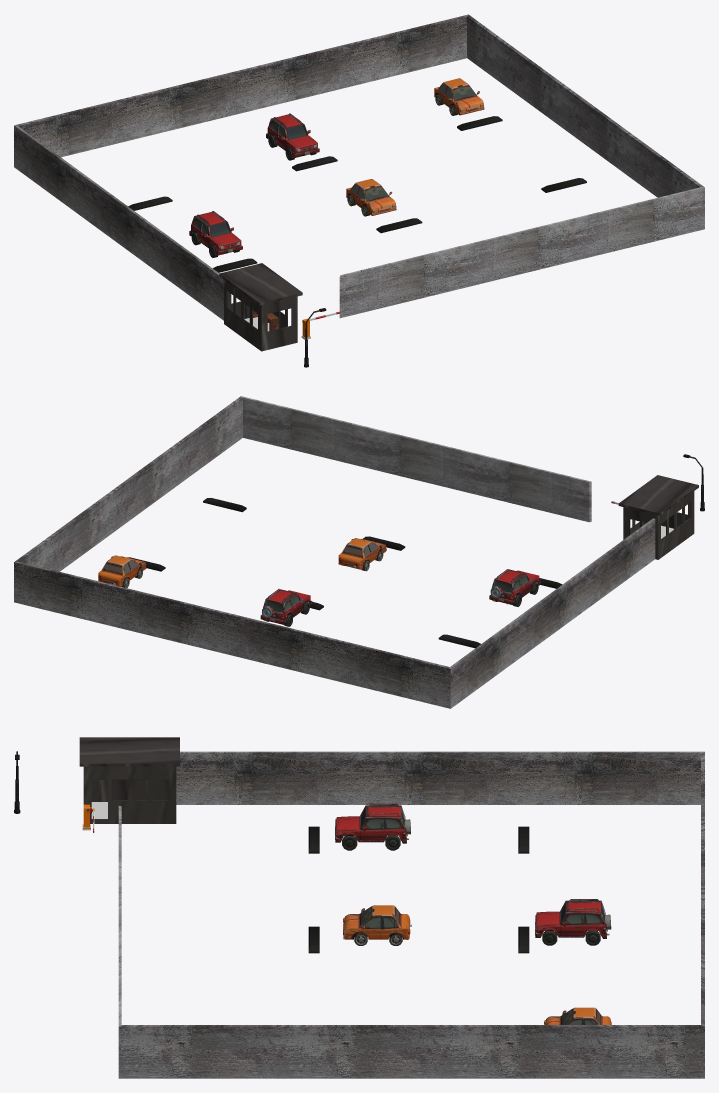
The model's file is otopark.fbx.
3 views of the same model, one above another, from view 1: azimuth 30°, elevation 25°; view 2: azimuth 150°, elevation 25°; view 3: azimuth 270°, elevation 25° (orthographic). The views are drawn at different scales.
Visible parts, largest first — view 1: Plane, Cube.030, yerler, araç3, araç3.001, Teker4, Teker4.001; view 2: Plane, Cube.030, araç3, araç3.001, yerler, Teker4, Teker4.001; view 3: Plane, Cube.030, araç3.001, araç3, Teker4, yerler, Teker4.001.
Part boxes in pixels (<box>): Plane: <box>14,14,704,320</box>; Cube.030: <box>219,263,302,351</box>; yerler: <box>128,116,586,272</box>; araç3: <box>266,113,319,160</box>; araç3.001: <box>189,211,242,257</box>; Teker4: <box>346,179,396,216</box>; Teker4.001: <box>434,78,484,115</box>; Plane: <box>14,396,655,708</box>; Cube.030: <box>618,475,698,559</box>; araç3: <box>260,589,312,626</box>; araç3.001: <box>489,569,540,606</box>; yerler: <box>127,498,562,648</box>; Teker4: <box>338,538,386,571</box>; Teker4.001: <box>98,555,146,587</box>; Plane: <box>118,751,704,1078</box>; Cube.030: <box>79,737,179,823</box>; araç3.001: <box>335,803,410,850</box>; araç3: <box>535,899,611,945</box>; Teker4: <box>343,905,411,945</box>; yerler: <box>308,826,529,953</box>; Teker4.001: <box>544,1007,611,1024</box>.
Size of the model in its own units: 3216 by 356 by 3365.
Materials: 7 (7 with a texture image).
